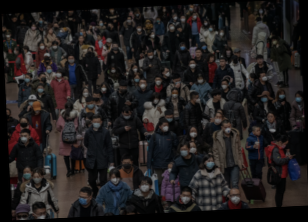mask_weared_incorrect: (213, 114, 223, 124), (111, 43, 118, 50)
with_mask: (179, 192, 192, 204), (229, 192, 241, 204), (77, 193, 88, 205), (139, 181, 150, 192), (109, 174, 120, 185), (205, 158, 215, 170), (34, 209, 47, 218), (121, 160, 132, 170), (31, 174, 42, 184), (222, 124, 232, 134), (19, 133, 29, 143), (179, 146, 188, 157), (22, 169, 31, 180), (259, 94, 269, 103), (92, 119, 101, 129), (259, 72, 268, 81), (294, 94, 303, 103), (188, 144, 197, 153), (160, 123, 169, 132), (19, 119, 28, 128), (189, 128, 197, 138), (279, 141, 288, 149), (170, 90, 178, 99), (122, 112, 131, 120), (85, 101, 94, 109), (84, 116, 92, 125), (15, 213, 27, 219), (27, 98, 35, 107), (246, 74, 253, 84), (278, 91, 286, 99), (188, 61, 196, 69), (119, 85, 127, 93), (36, 85, 44, 93), (164, 115, 173, 122), (139, 80, 146, 89), (190, 12, 198, 19), (168, 23, 175, 31), (163, 69, 170, 77), (173, 78, 181, 85), (194, 95, 201, 103), (154, 77, 161, 85), (152, 96, 159, 104), (67, 56, 74, 64), (92, 93, 99, 101), (81, 89, 89, 96), (23, 75, 30, 83), (270, 37, 277, 44), (217, 30, 224, 37), (221, 82, 228, 89), (131, 65, 138, 72), (133, 76, 140, 83), (86, 48, 93, 55), (99, 85, 106, 92), (39, 75, 46, 82), (43, 54, 50, 61), (166, 165, 172, 173), (146, 53, 154, 59), (45, 66, 51, 74), (188, 4, 194, 11), (207, 24, 213, 31), (179, 44, 185, 51), (197, 77, 204, 83), (149, 32, 155, 39), (109, 67, 116, 73), (52, 23, 58, 30), (51, 43, 57, 50), (55, 71, 61, 78), (4, 32, 10, 39), (232, 57, 238, 63), (179, 16, 185, 22), (201, 43, 207, 49), (136, 26, 142, 32), (87, 25, 93, 31), (30, 24, 36, 30), (203, 19, 208, 26), (172, 13, 177, 20), (126, 17, 131, 24), (78, 29, 83, 36), (67, 10, 74, 15), (53, 37, 58, 44), (33, 108, 40, 113), (39, 43, 44, 50), (38, 17, 43, 24), (6, 111, 10, 119), (225, 49, 231, 54), (106, 24, 111, 30), (98, 20, 103, 26), (12, 48, 17, 54), (258, 8, 263, 13), (134, 11, 139, 16), (20, 21, 25, 26), (155, 17, 159, 23), (91, 24, 95, 30), (29, 66, 33, 72), (109, 8, 114, 12), (162, 7, 166, 11), (140, 46, 144, 50), (145, 21, 150, 24)
without_mask: (266, 114, 275, 123), (253, 127, 261, 136), (256, 56, 263, 64), (219, 59, 226, 66), (194, 50, 201, 57), (215, 92, 221, 99), (209, 55, 215, 62), (235, 50, 241, 56), (105, 41, 112, 46), (96, 34, 101, 40), (78, 36, 83, 42), (47, 27, 52, 33), (1, 26, 6, 31), (178, 26, 182, 32), (12, 16, 16, 22)
